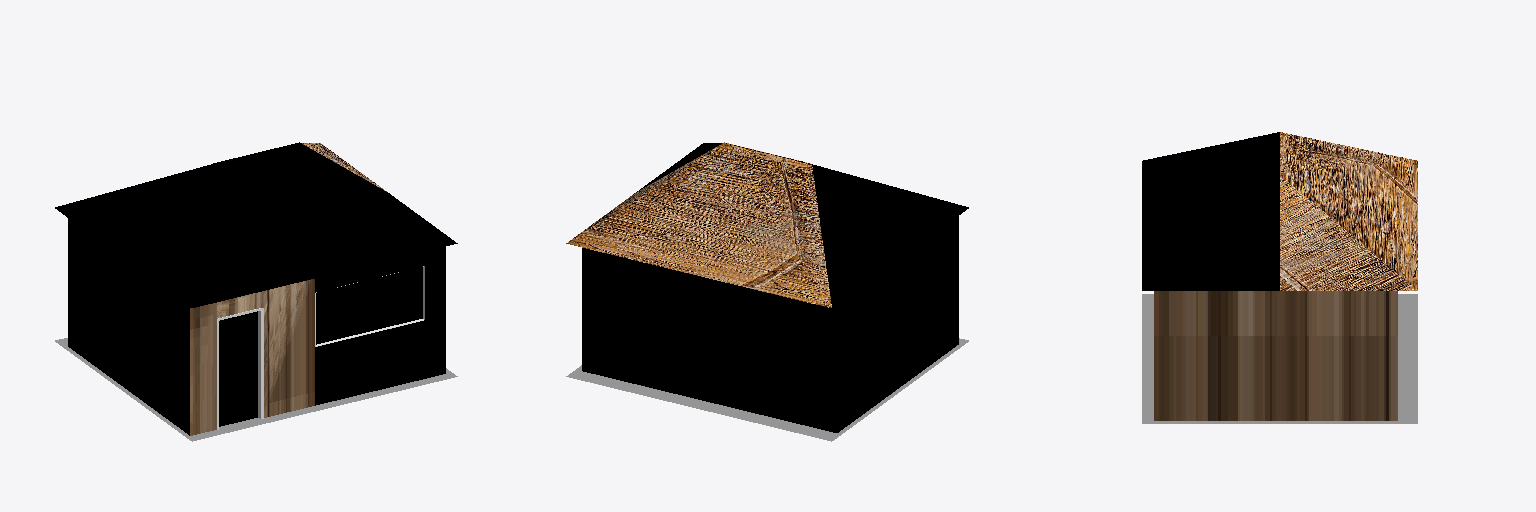
3 views of the same model, side by side, from view 1: azimuth 30°, elevation 25°; view 2: azimuth 150°, elevation 25°; view 3: azimuth 270°, elevation 25° (orthographic).
Parts seen in each view (by area): view 1: choza:polySurface1; view 2: choza:polySurface1; view 3: choza:polySurface1.
Boxes of the visible parts, <box> form: choza:polySurface1: <box>55,142,457,441</box>; choza:polySurface1: <box>566,142,968,441</box>; choza:polySurface1: <box>1142,132,1417,423</box>.
Bounding box in the file's own units: 7.39 × 5.46 × 6.63.
6 materials, 2 textured.